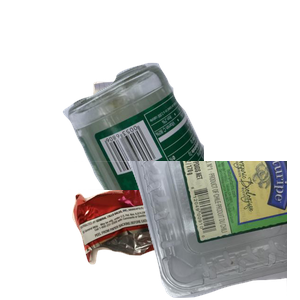glass: (60, 60, 300, 240)
paper: (68, 66, 215, 197)
plastic: (60, 161, 300, 300)
trash: (70, 162, 257, 300)
